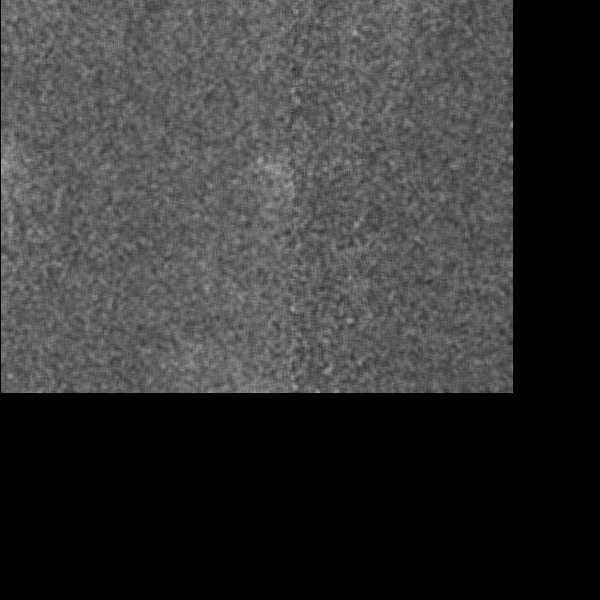spark: (324, 2, 353, 64), (414, 148, 456, 185), (207, 153, 222, 241), (258, 336, 292, 372)
